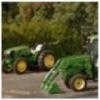tractors: (43, 38, 98, 94), (2, 41, 56, 76)
